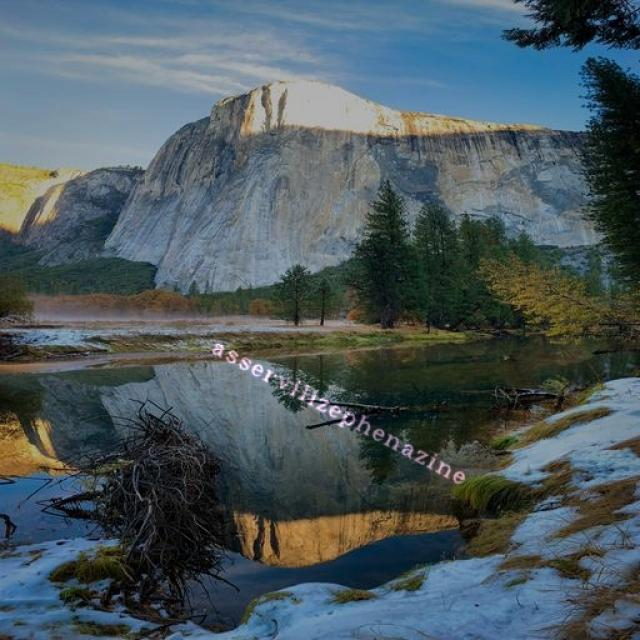watermark: (202, 332, 478, 488)
